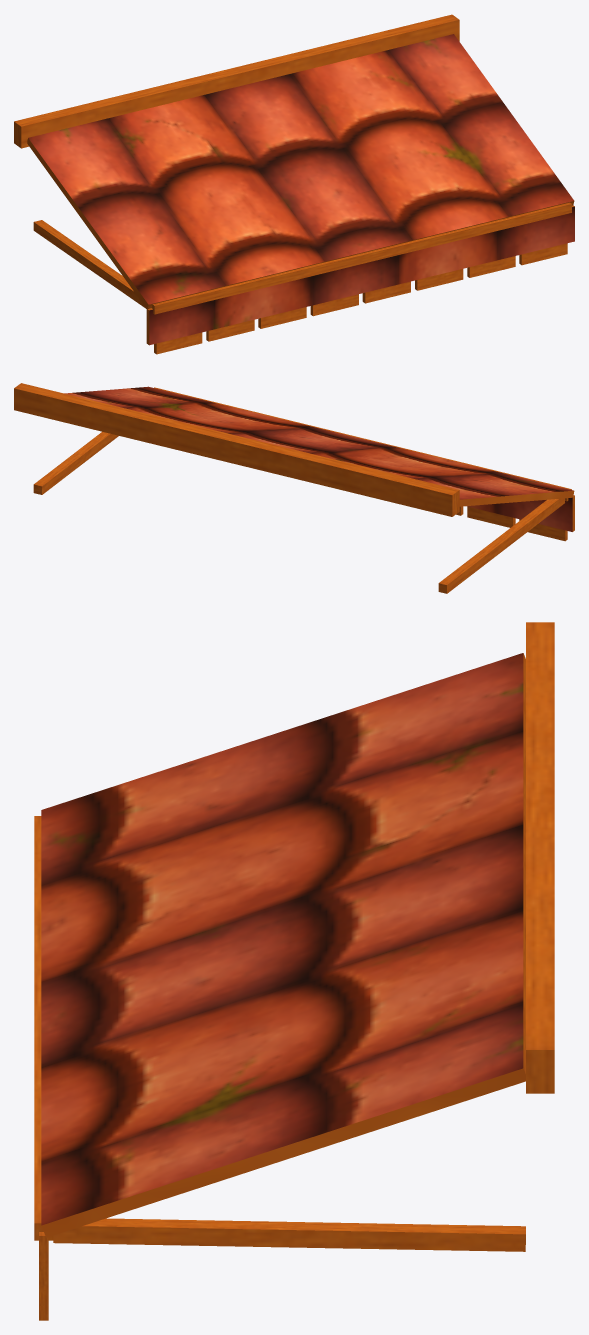
Rendered from Awning.fbx.
The picture shows the model from 3 angles, top to bottom: view 1: azimuth 30°, elevation 25°; view 2: azimuth 150°, elevation 25°; view 3: azimuth 270°, elevation 25°; orthographic projection. The views are drawn at different scales.
Visible parts, largest first — view 1: Awning; view 2: Awning; view 3: Awning.
Part boxes in pixels (left/top/right/bottom): Awning: left=14, top=14, right=574, bottom=354; Awning: left=14, top=383, right=574, bottom=593; Awning: left=34, top=622, right=554, bottom=1320.
Bounding box in the file's own units: 2.1 × 0.65 × 1.08.
